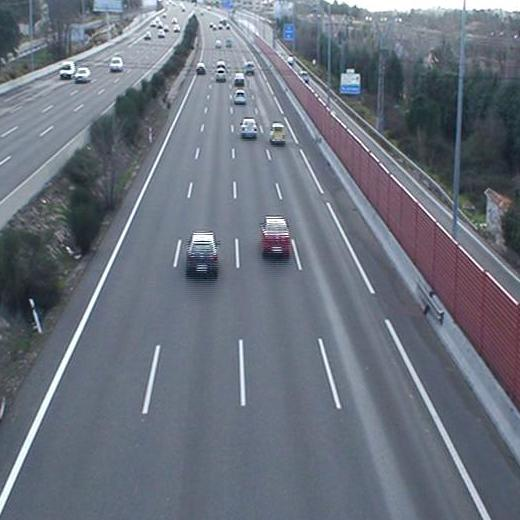car: (186, 233, 220, 277), (258, 213, 291, 256), (240, 118, 259, 139), (269, 122, 287, 144), (234, 90, 247, 105), (233, 73, 246, 87), (214, 68, 227, 82), (196, 63, 206, 76)
van: (244, 61, 257, 77)
